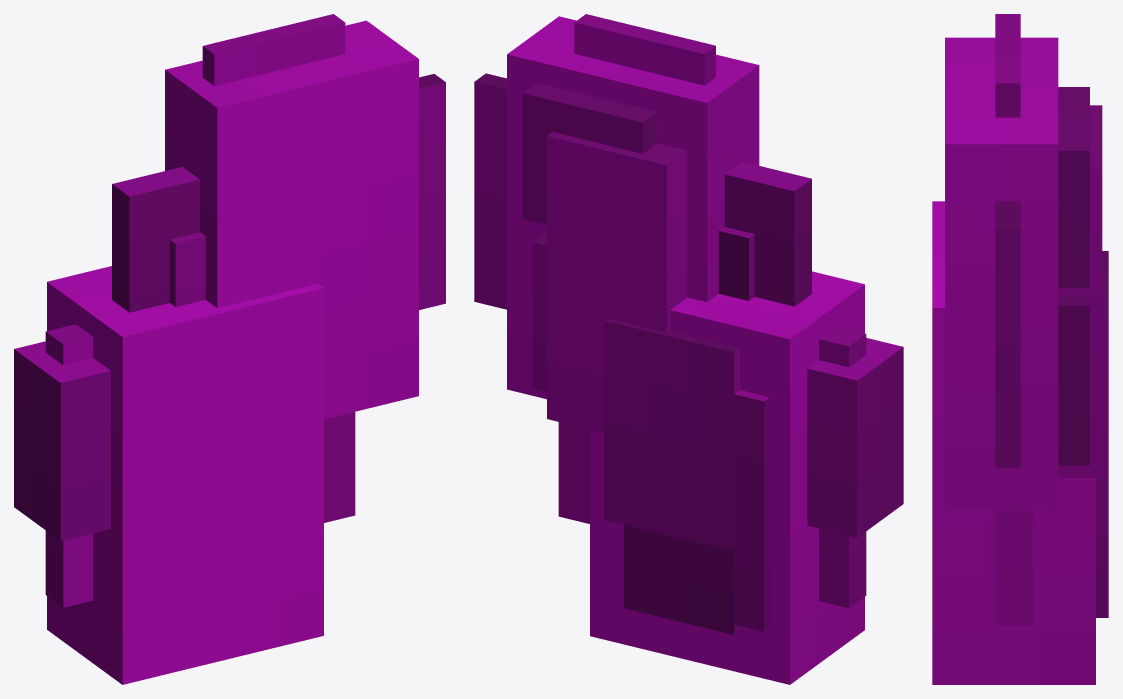
The model's file is memoryShard.gltf.
3 renders of one model, left to right at view 1: azimuth 30°, elevation 25°; view 2: azimuth 150°, elevation 25°; view 3: azimuth 270°, elevation 25°, orthographic. The views are drawn at different scales.
Visible parts, largest first — view 1: cube (×9); view 2: cube (×15); view 3: cube (×10).
Part boxes in pixels (x1=…): cube (×9): x1=14, y1=14, x2=445, y2=684; cube (×15): x1=474, y1=14, x2=903, y2=684; cube (×10): x1=932, y1=14, x2=1108, y2=684.
Size of the model in its own units: 0.25 by 0.3438 by 0.0875.
1 material, 1 textured.
